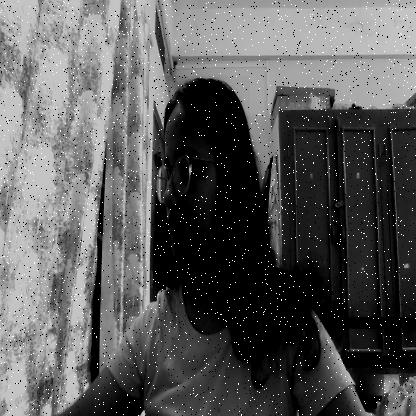Distracted: (155, 76, 250, 266)
